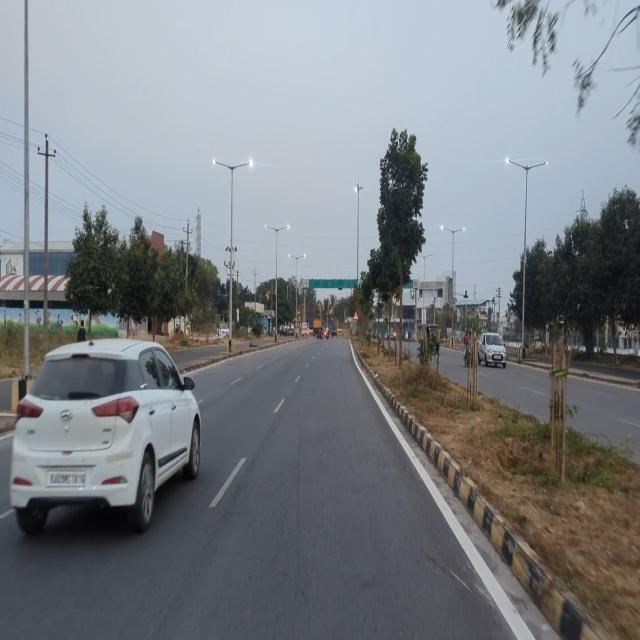bien_nguy_hiem: (352, 309, 359, 321)
